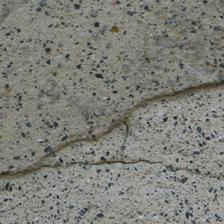Crack: (51, 71, 141, 153), (177, 145, 202, 224)
